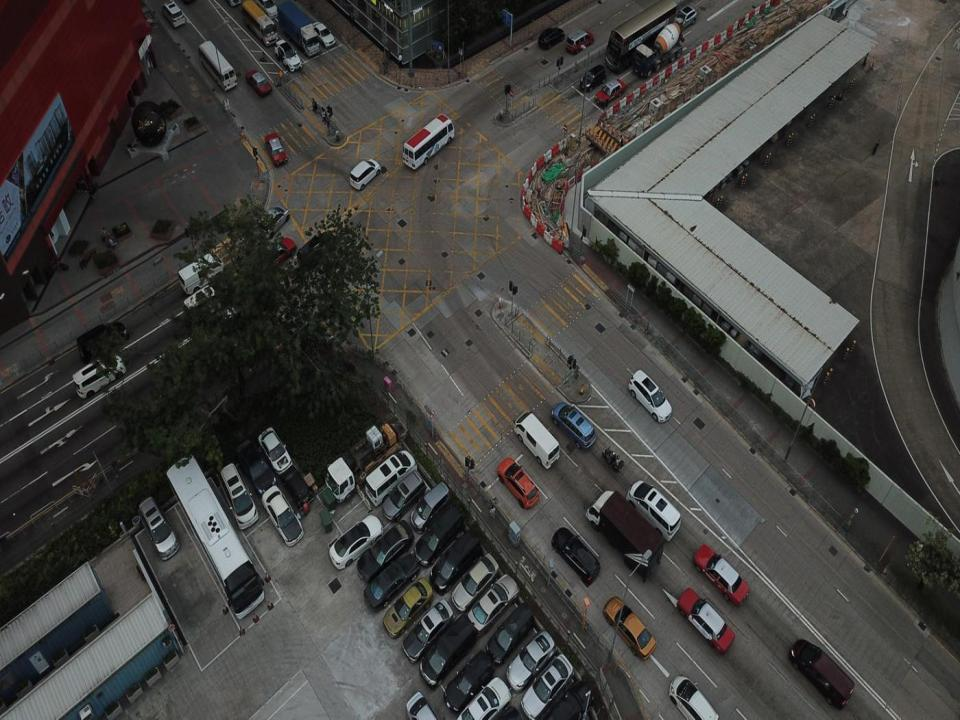bus: (166, 450, 265, 618), (604, 0, 677, 72), (400, 112, 456, 169), (197, 38, 238, 92), (241, 0, 278, 46)
car: (790, 637, 856, 710), (419, 615, 478, 690), (676, 586, 737, 655), (691, 542, 750, 607), (603, 594, 657, 661), (520, 652, 574, 719), (359, 518, 414, 581), (429, 528, 483, 592), (443, 650, 496, 714), (628, 478, 680, 543), (364, 553, 420, 613), (403, 598, 453, 664), (486, 601, 536, 667), (382, 576, 434, 638), (506, 630, 558, 692), (412, 506, 464, 568), (470, 573, 520, 635), (551, 527, 602, 587), (330, 513, 384, 569), (365, 450, 418, 507), (451, 552, 500, 612), (139, 494, 180, 561), (627, 366, 673, 425), (261, 485, 304, 548), (220, 461, 258, 530), (455, 675, 513, 719), (667, 673, 722, 719), (550, 398, 596, 450), (73, 354, 126, 398), (74, 320, 128, 363), (495, 456, 540, 507), (540, 678, 595, 719), (237, 440, 275, 492), (411, 482, 448, 532), (259, 426, 292, 470), (259, 236, 296, 275), (281, 470, 315, 512), (256, 204, 290, 239), (347, 156, 380, 190), (273, 38, 304, 72), (593, 78, 627, 109), (405, 693, 440, 719), (264, 130, 287, 168), (245, 64, 271, 97), (203, 306, 240, 329), (566, 27, 594, 53), (581, 64, 607, 92), (537, 25, 565, 51), (310, 19, 334, 48), (162, 1, 186, 28), (676, 7, 698, 28)
truck: (583, 487, 666, 566), (328, 419, 402, 505), (629, 18, 684, 82), (278, 1, 319, 57)
van: (512, 406, 560, 469), (178, 252, 224, 296), (177, 284, 221, 321)
